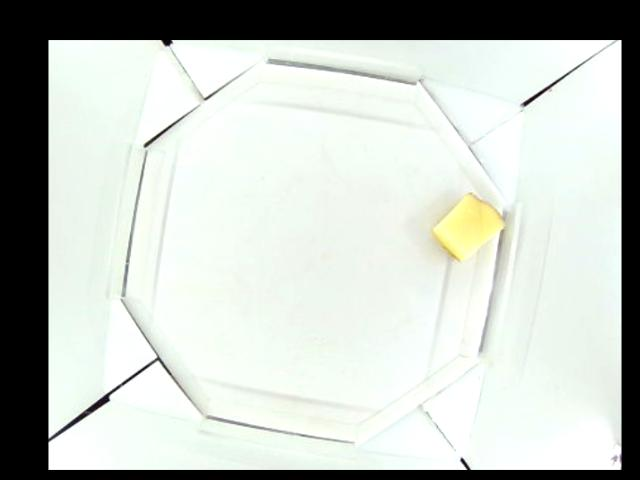Potato: (431, 195, 503, 262)
